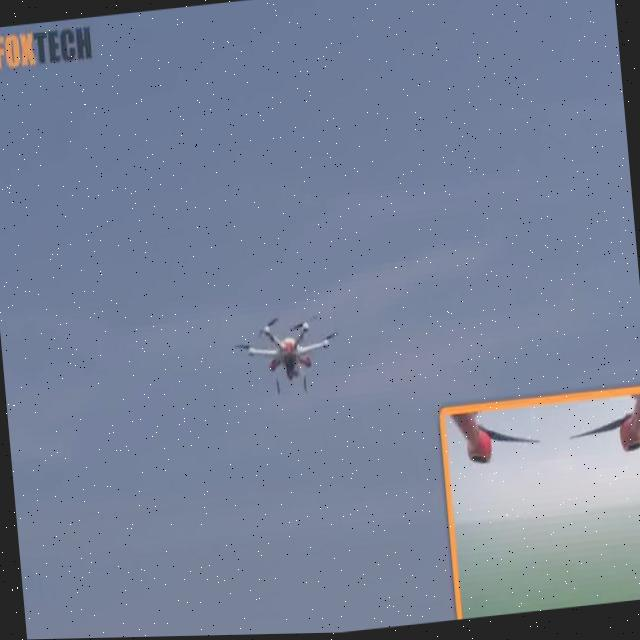drone: (228, 304, 351, 410)
